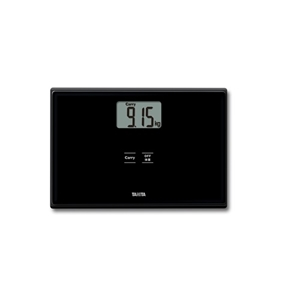LCD: (114, 100, 163, 130)
